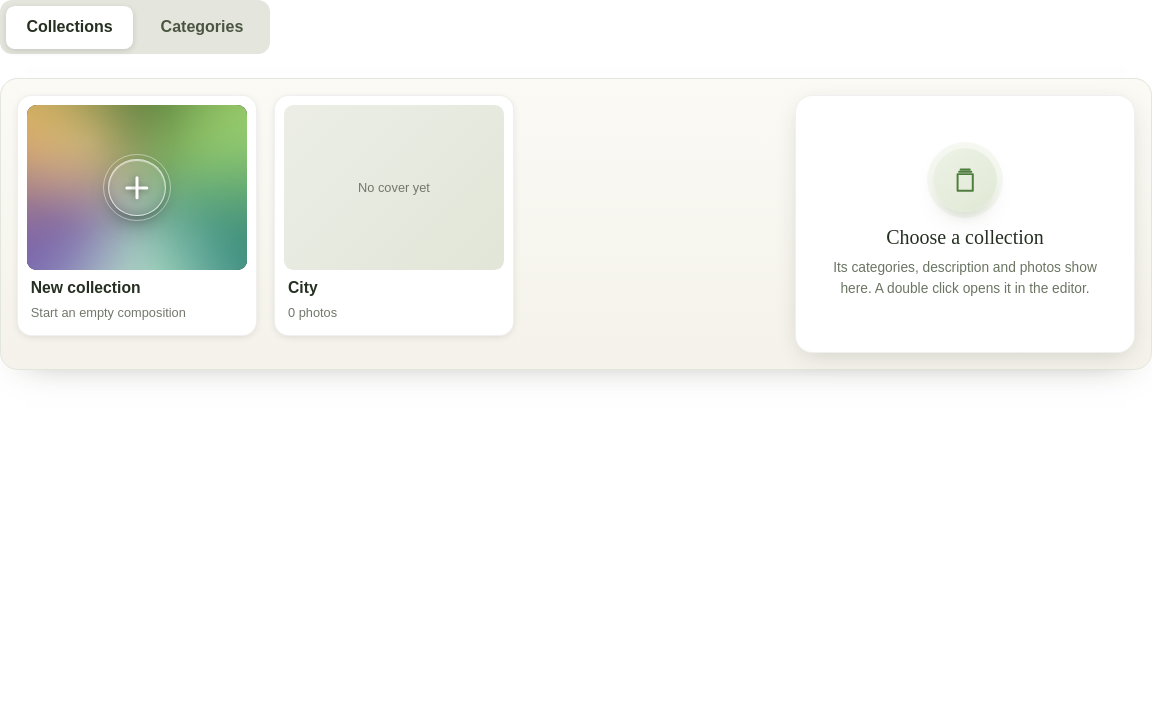
Test case: catalog tabs › keeps a stale draft and offers an explicit reload without retrying the write
Click the button "No cover yet City 0 photos".
click(394, 216)  # box [274,95,514,336]
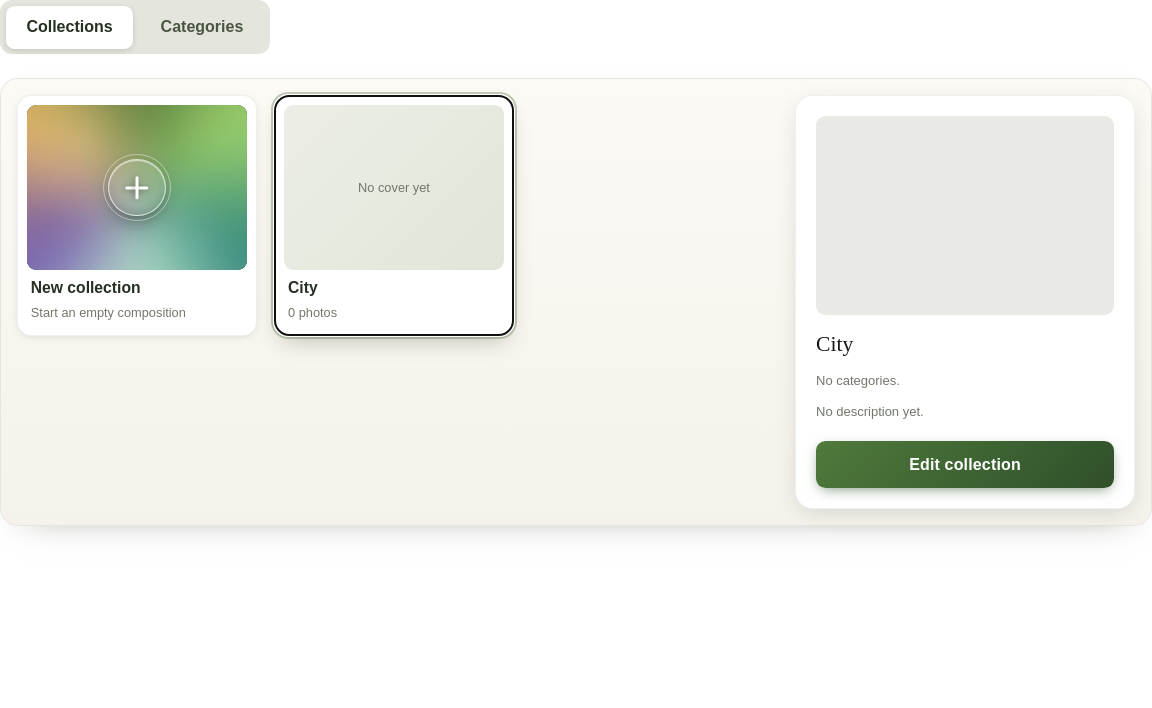
Click the button "Edit collection".
click(965, 465)  # box [816,442,1114,488]
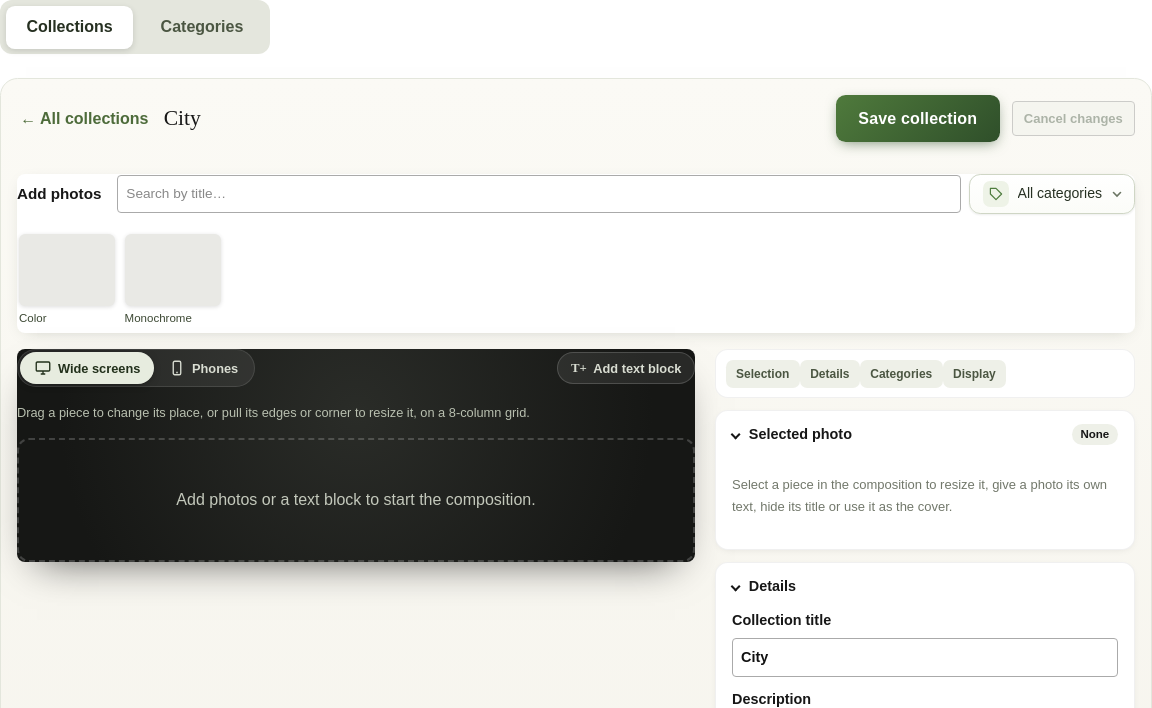
Type " at night" into the field labelled "Collection title".
click(925, 657); type(" at night")  # box [732,638,1118,677]
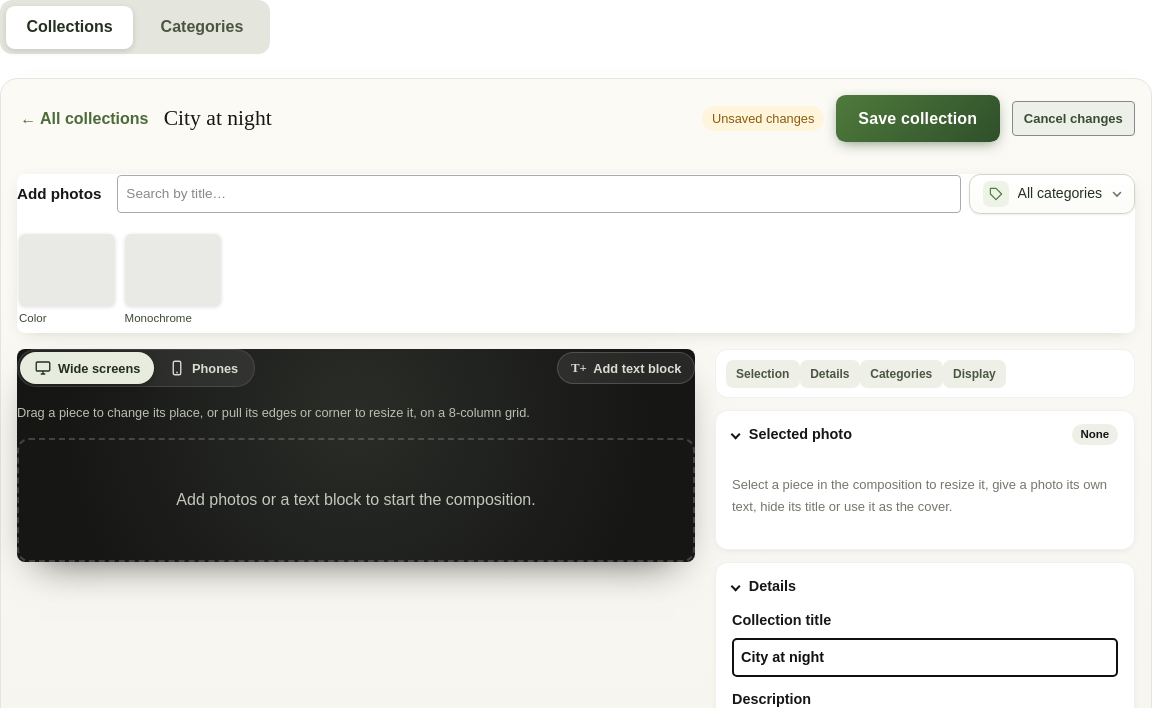
Click the button "Save collection".
click(918, 119)  # box [836,95,1000,142]
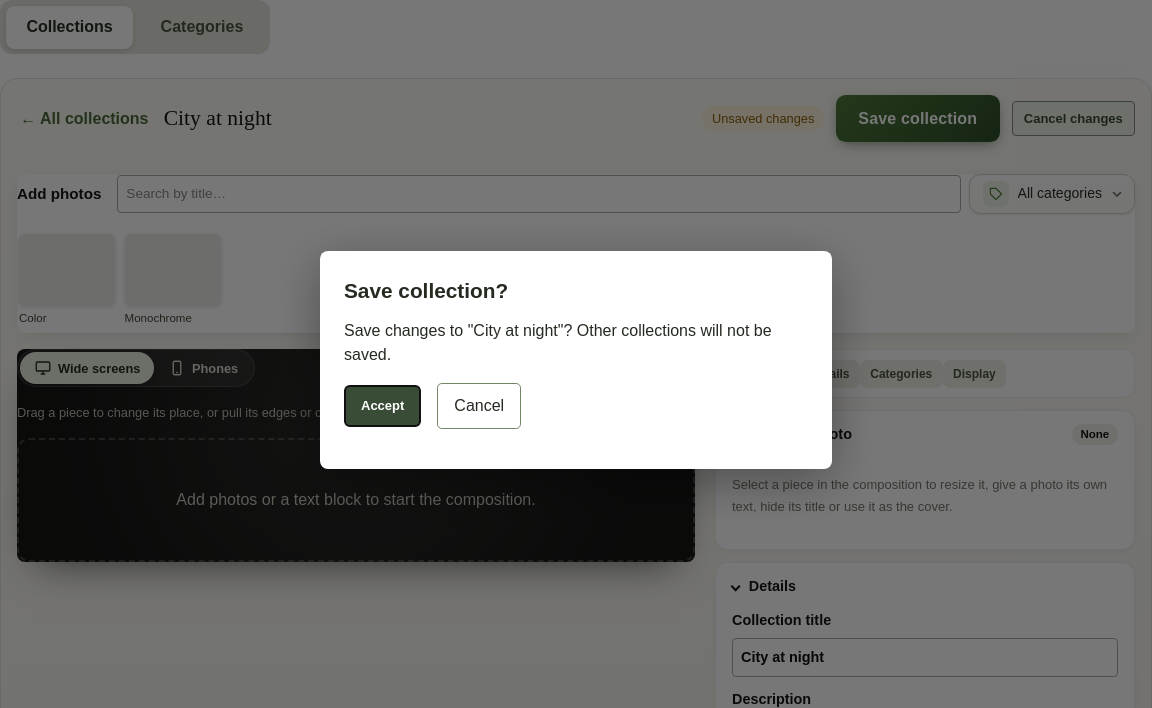
Click the button "Accept".
click(383, 406)  # box [344,385,421,427]
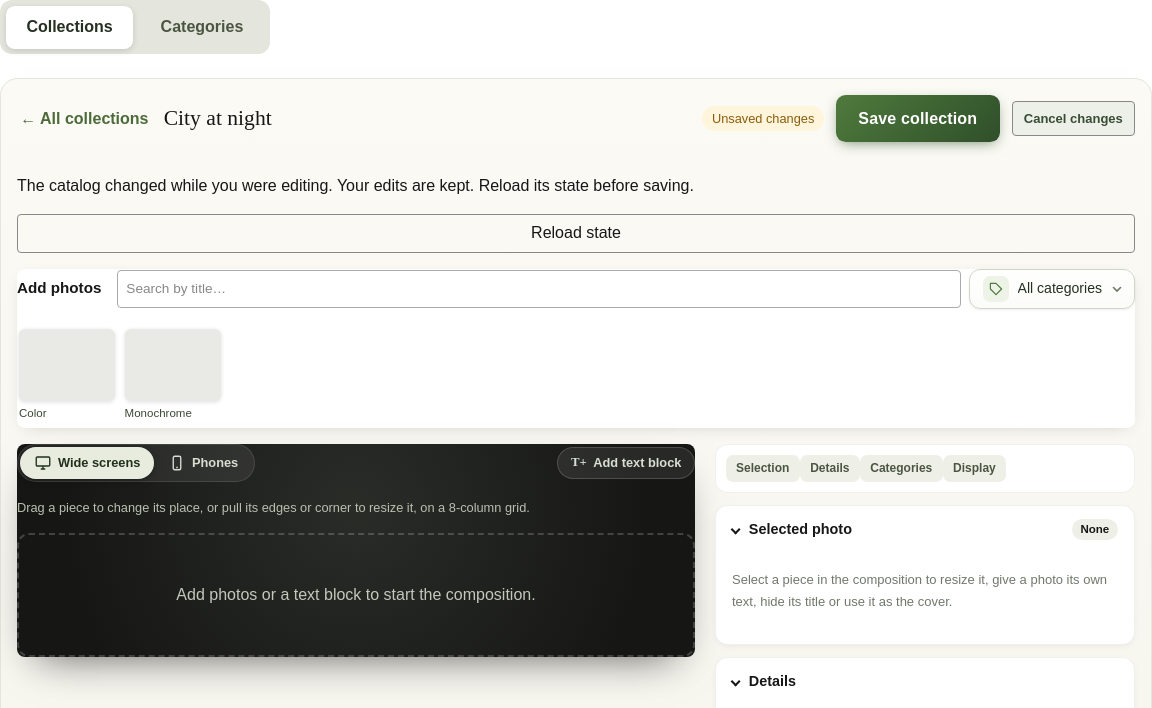
Now the message shows "Your edits are kept", box [17,177,694,194]
Now the button "Reload state" is shown, box [17,214,1135,253]
